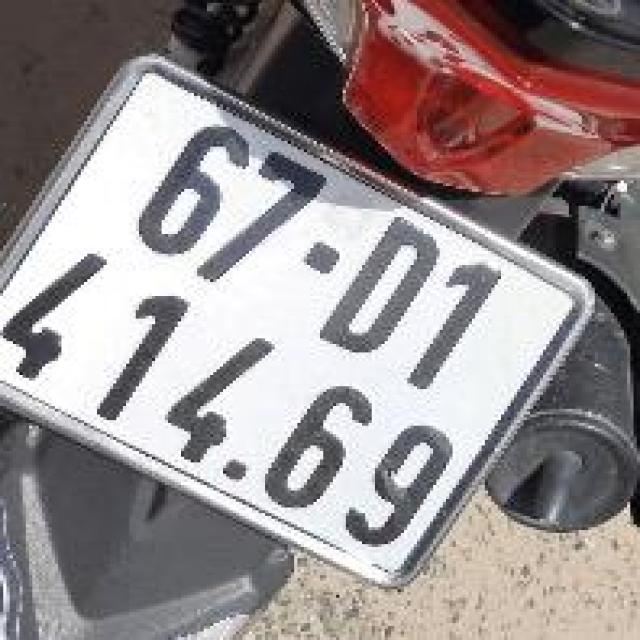1: (376, 247, 526, 409), (67, 273, 204, 437)
4: (138, 315, 311, 485), (0, 234, 136, 402)
6: (247, 368, 396, 537), (120, 113, 271, 273)
7: (176, 136, 350, 303)
9: (334, 405, 479, 567)
D: (305, 201, 463, 374)
